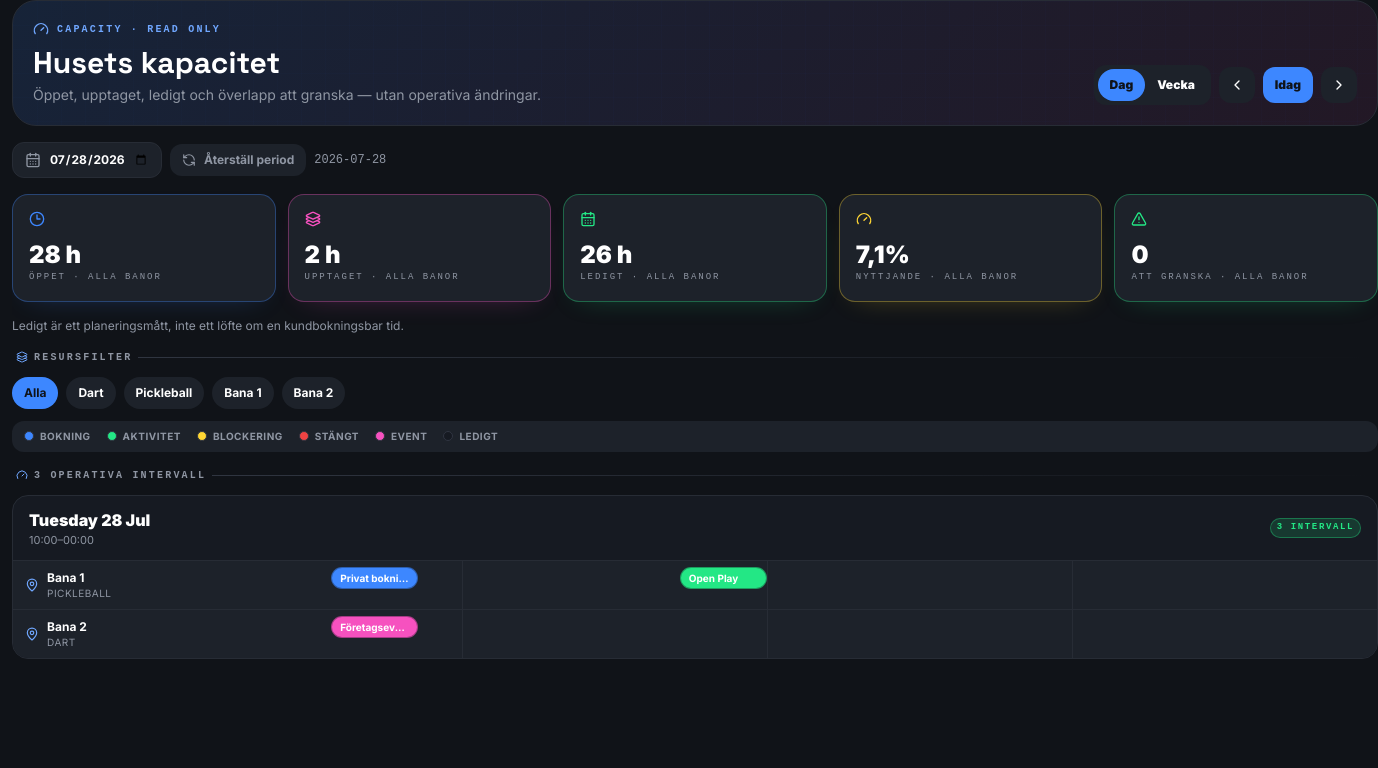
Test: Capacity V1 › keeps Day and Week navigation inside the server operational window
Type "2027-07-29" into the date field named "Startdatum" at (99, 160), box left=49, top=151, right=149, bottom=169
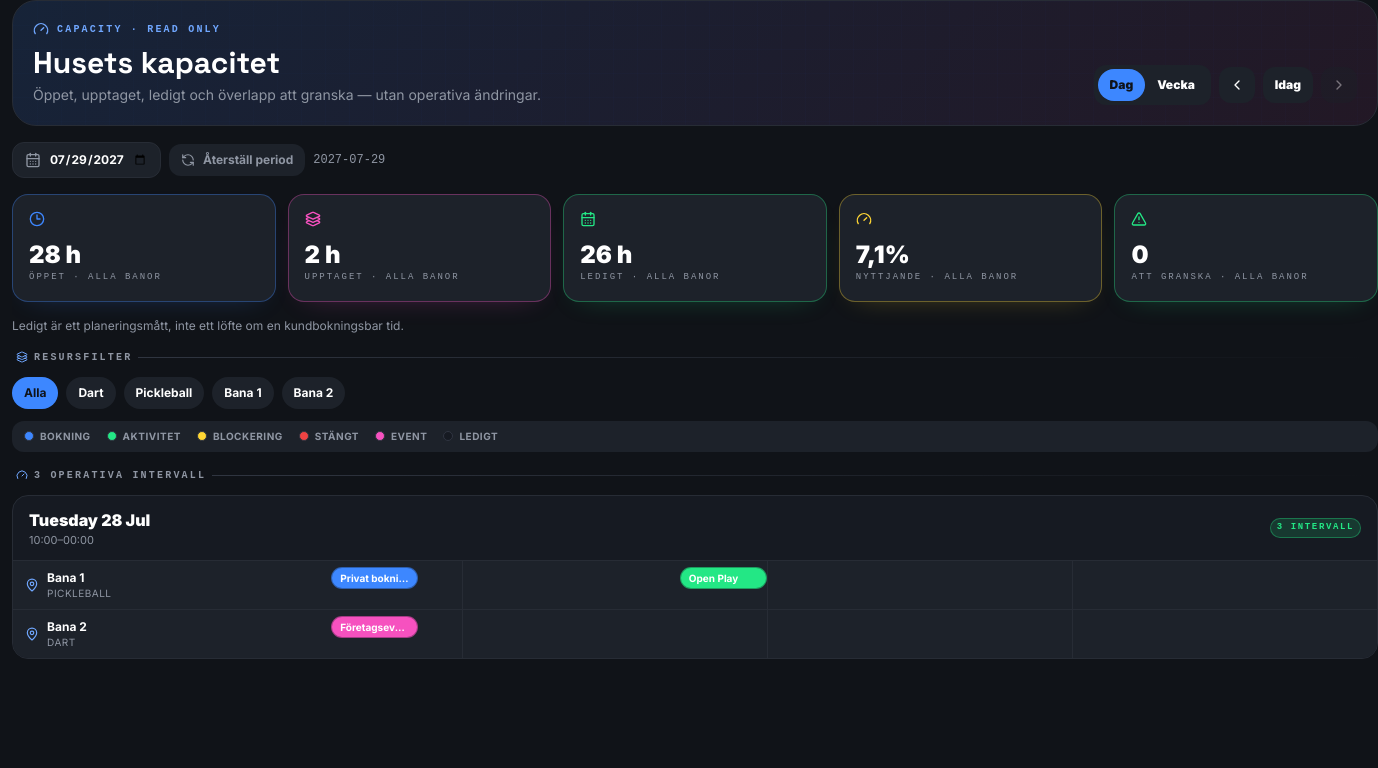
Expected: the button named "Nästa period" is disabled, left=1321, top=67, right=1357, bottom=103
Click the button "Vecka" at (1176, 85), box left=1145, top=69, right=1207, bottom=101
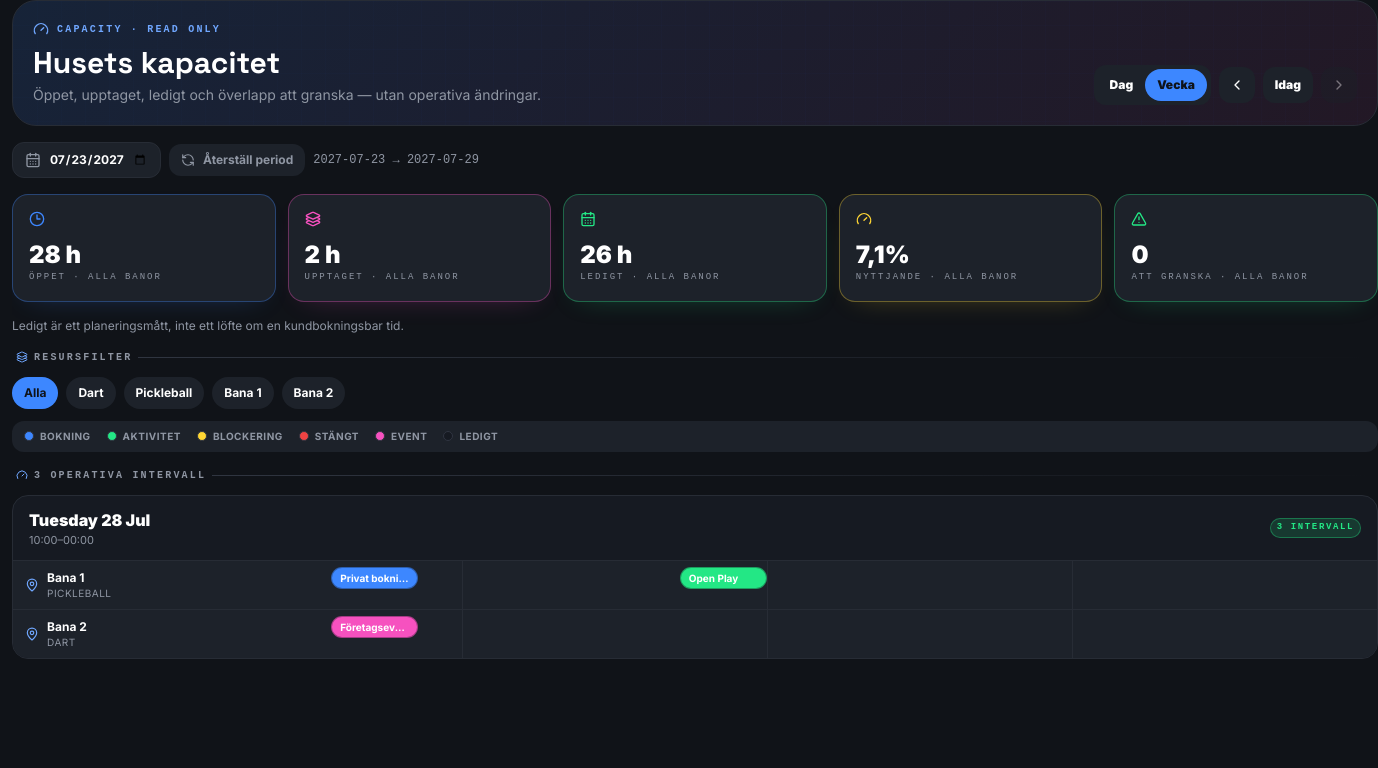
Now the date field named "Startdatum" holds "2027-07-23", box left=49, top=151, right=148, bottom=169
